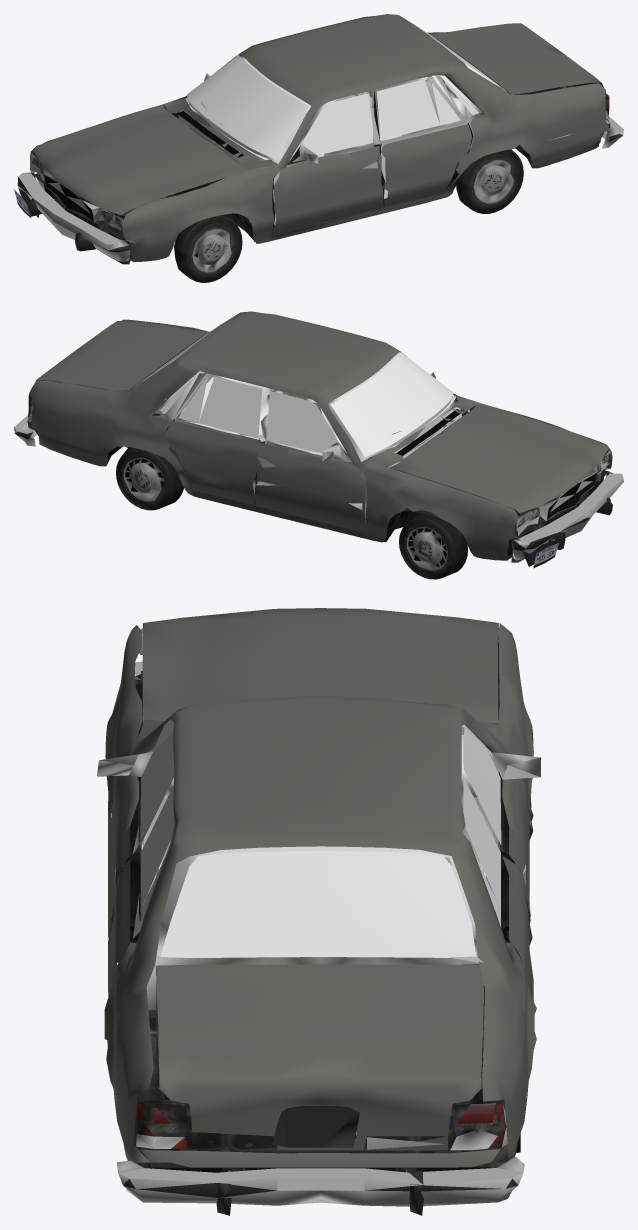
Rendered from CocheLOD2.fbx.
3 views of the same model, one above another, from view 1: azimuth 30°, elevation 25°; view 2: azimuth 150°, elevation 25°; view 3: azimuth 270°, elevation 25° (orthographic). The views are drawn at different scales.
Visible parts, largest first — view 1: body_Bodycolor_0, Hood_Bodycolor_0, Door_FL_Bodycolor_0, Wiendshield_UCB_GLASS_CLEAN_0, trunk_door_Bodycolor_0, Door_RL_Bodycolor_0, Wheel_FL_RIMSTOCK_05_0, Door_Glass_RL_UCB_GLASS_CLEAN_0, Wheel_RL_RIMSTOCK_05_0, bottom_UCB_BOTTOM_0, bumper_front_UCB_BOTTOM_0, Door_Glass_FL_UCB_GLASS_CLEAN_0 (+8 smaller); view 2: body_Bodycolor_0, Hood_Bodycolor_0, Door_FR_Bodycolor_0, Wiendshield_UCB_GLASS_CLEAN_0, trunk_door_Bodycolor_0, Door_RR_Bodycolor_0, Wheel_FR_RIMSTOCK_05_0, Door_Glass_RR_UCB_GLASS_CLEAN_0, Wheel_RR_RIMSTOCK_05_0, Door_Glass_FR_UCB_GLASS_CLEAN_0, bumper_front_UCB_BOTTOM_0, bottom_UCB_BOTTOM_0 (+6 smaller); view 3: body_Bodycolor_0, trunk_door_Bodycolor_0, Hood_Bodycolor_0, Windows_rear_UCB_GLASS_CLEAN_0, bumper_rear_UCB_BOTTOM_0, bottom_UCB_BOTTOM_0, interior_GEN4DR_INTERIOR_0, Trunk_door_inner_UCB_BOTTOM_0, Taillights_UCB_BOTTOM_0, Door_FL_Bodycolor_0, Door_Glass_RR_UCB_GLASS_CLEAN_0, Door_Glass_FR_UCB_GLASS_CLEAN_0 (+10 smaller).
Boxes of the visible parts, x1,y1,x2,y2 form: body_Bodycolor_0: [30, 14, 610, 262]; Hood_Bodycolor_0: [32, 104, 250, 215]; Door_FL_Bodycolor_0: [273, 146, 383, 233]; Wiendshield_UCB_GLASS_CLEAN_0: [187, 55, 308, 158]; trunk_door_Bodycolor_0: [431, 23, 601, 94]; Door_RL_Bodycolor_0: [381, 124, 471, 206]; Wheel_FL_RIMSTOCK_05_0: [174, 214, 242, 282]; Door_Glass_RL_UCB_GLASS_CLEAN_0: [377, 79, 460, 140]; Wheel_RL_RIMSTOCK_05_0: [456, 149, 523, 213]; bottom_UCB_BOTTOM_0: [31, 37, 606, 264]; bumper_front_UCB_BOTTOM_0: [17, 172, 130, 261]; Door_Glass_FL_UCB_GLASS_CLEAN_0: [302, 93, 373, 155]; body_Bodycolor_0: [27, 311, 612, 560]; Hood_Bodycolor_0: [389, 403, 608, 512]; Door_FR_Bodycolor_0: [255, 442, 365, 532]; Wiendshield_UCB_GLASS_CLEAN_0: [330, 352, 453, 456]; trunk_door_Bodycolor_0: [36, 321, 208, 389]; Door_RR_Bodycolor_0: [165, 420, 258, 504]; Wheel_FR_RIMSTOCK_05_0: [399, 512, 467, 579]; Door_Glass_RR_UCB_GLASS_CLEAN_0: [178, 376, 262, 437]; Wheel_RR_RIMSTOCK_05_0: [116, 447, 183, 510]; Door_Glass_FR_UCB_GLASS_CLEAN_0: [266, 391, 337, 453]; bumper_front_UCB_BOTTOM_0: [512, 472, 623, 566]; bottom_UCB_BOTTOM_0: [31, 335, 609, 562]; body_Bodycolor_0: [104, 623, 536, 1167]; trunk_door_Bodycolor_0: [156, 964, 484, 1150]; Hood_Bodycolor_0: [142, 608, 498, 723]; Windows_rear_UCB_GLASS_CLEAN_0: [160, 851, 476, 957]; bumper_rear_UCB_BOTTOM_0: [117, 1157, 524, 1215]; bottom_UCB_BOTTOM_0: [107, 671, 533, 1172]; interior_GEN4DR_INTERIOR_0: [144, 719, 499, 1010]; Trunk_door_inner_UCB_BOTTOM_0: [272, 1106, 445, 1149]; Taillights_UCB_BOTTOM_0: [136, 1101, 507, 1150]; Door_FL_Bodycolor_0: [108, 775, 138, 962]; Door_Glass_RR_UCB_GLASS_CLEAN_0: [463, 776, 500, 926]; Door_Glass_FR_UCB_GLASS_CLEAN_0: [463, 728, 501, 845].
Size of the model in its own units: 498 by 135 by 181.
